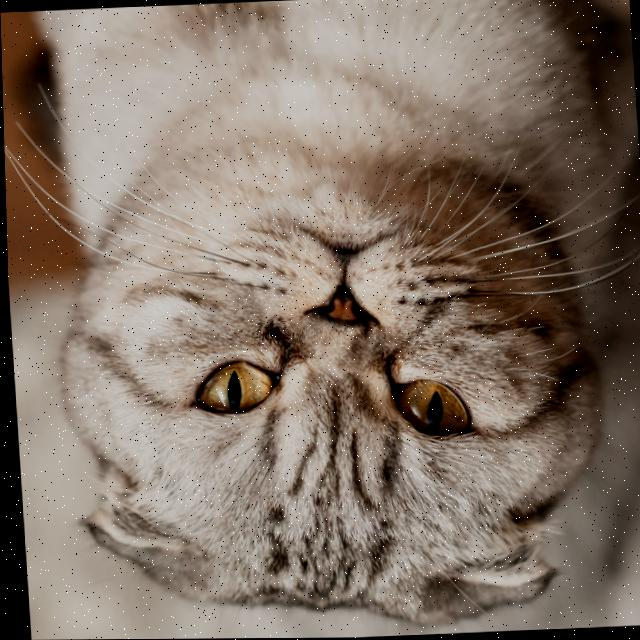Scottish Fold: (24, 0, 640, 640)
